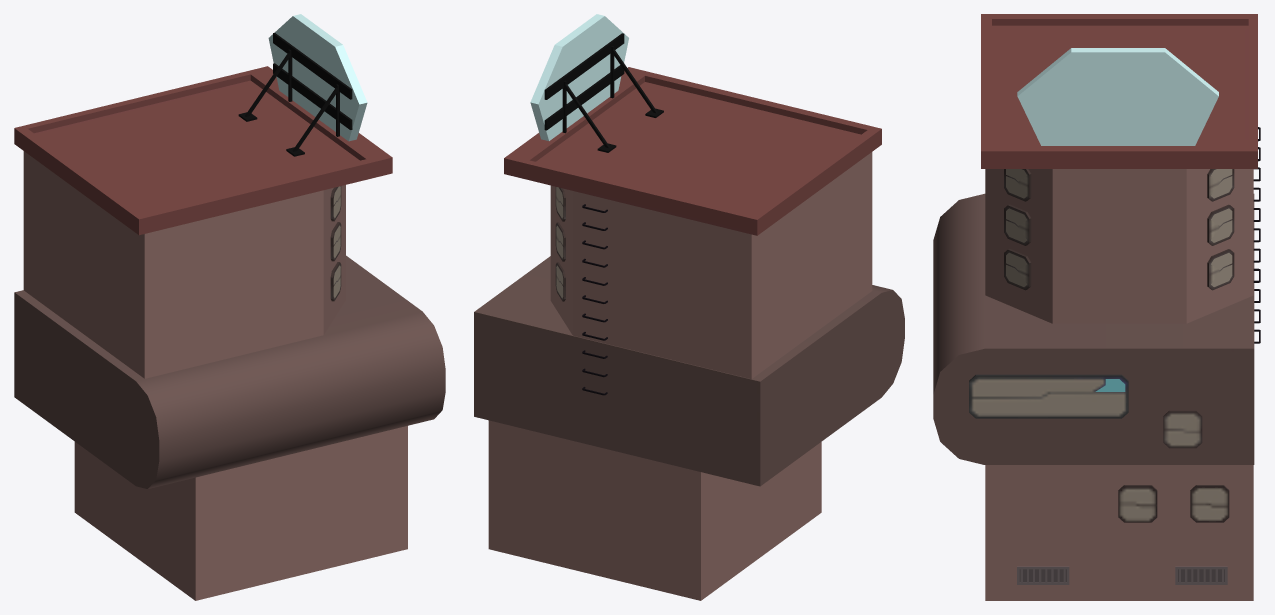
File: West_House_03.fbx
The picture shows the model from 3 angles, left to right: view 1: azimuth 30°, elevation 25°; view 2: azimuth 150°, elevation 25°; view 3: azimuth 270°, elevation 25°; orthographic projection. The views are drawn at different scales.
Parts seen in each view (by area): view 1: West_House_03; view 2: West_House_03; view 3: West_House_03.
Boxes of the visible parts, x1,y1,x2,y2 form: West_House_03: (14, 14, 445, 600); West_House_03: (474, 14, 904, 600); West_House_03: (933, 14, 1260, 600).
Bounding box in the file's own units: 24.48 × 39.05 × 21.67.
